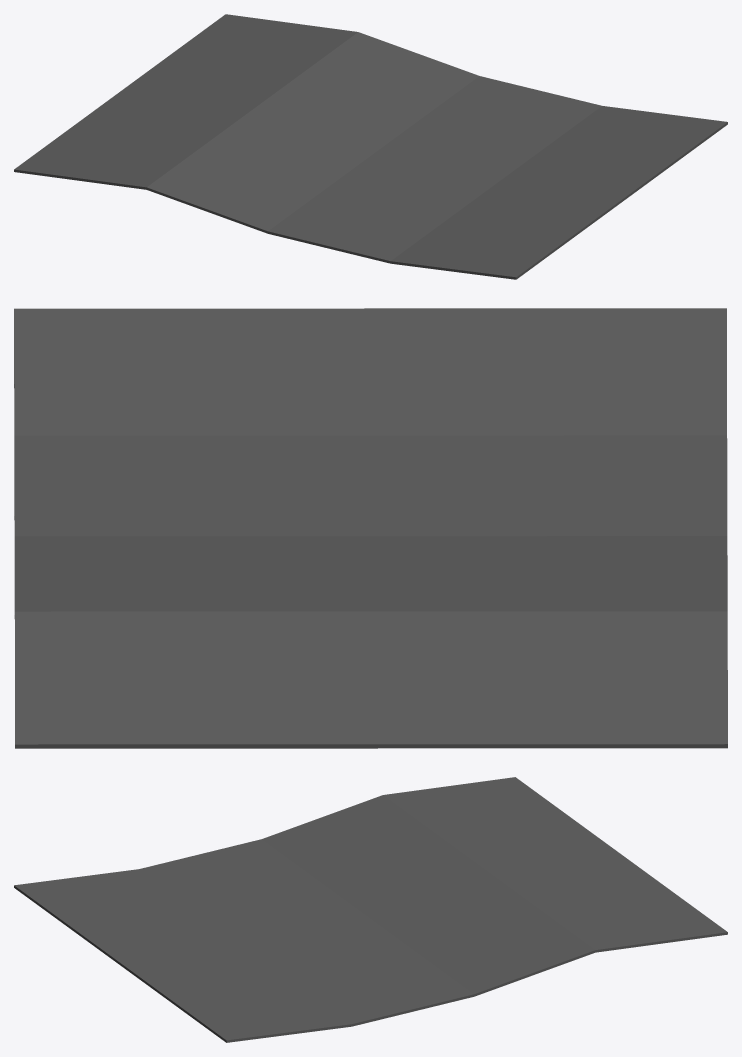
Rendered from Office2_Room_Paper.fbx.
3 renders of one model, top to bottom at view 1: azimuth 30°, elevation 25°; view 2: azimuth 150°, elevation 25°; view 3: azimuth 270°, elevation 25°, orthographic. The views are drawn at different scales.
Parts seen in each view (by area): view 1: Office2_Room_Paper; view 2: Office2_Room_Paper; view 3: Office2_Room_Paper.
Boxes of the visible parts, box(x1,y1,x2,y2) form: Office2_Room_Paper: box(14, 14, 727, 279); Office2_Room_Paper: box(14, 308, 727, 748); Office2_Room_Paper: box(14, 777, 727, 1042).
Bounding box in the file's own units: 56.93 × 1.62 × 61.84.
